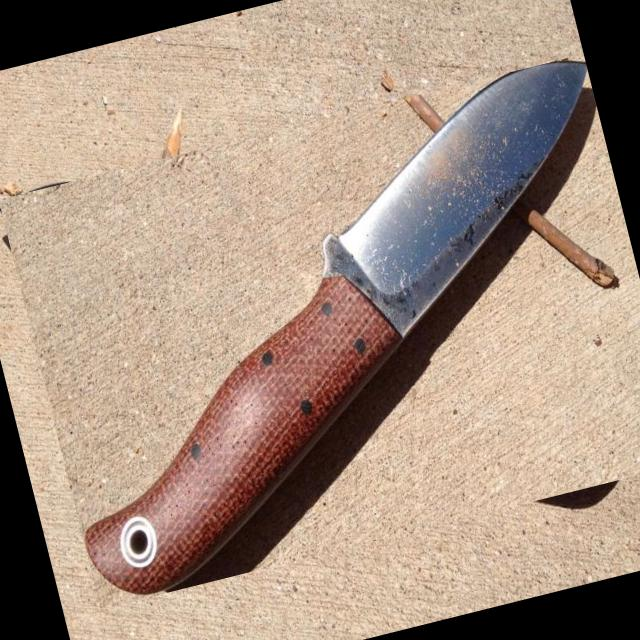Knife: (83, 62, 587, 596)
